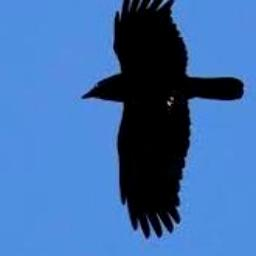Crow: (82, 0, 244, 239)
